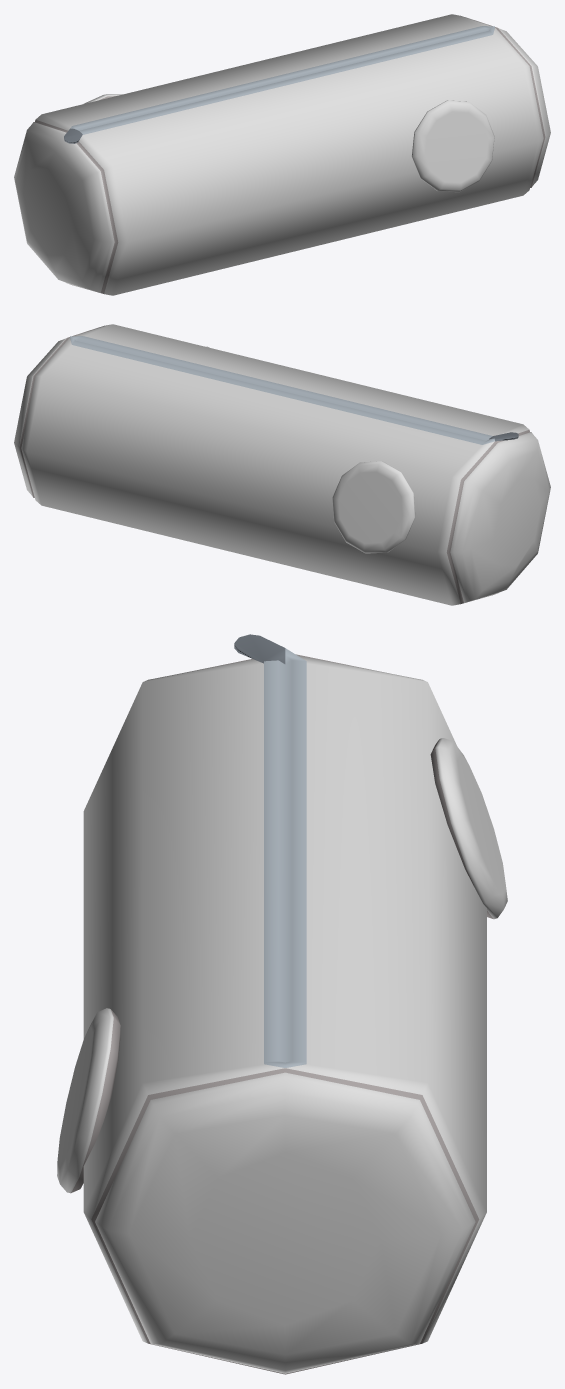
Rendered from RundeFedertaschePins.fbx.
3 renders of one model, top to bottom at view 1: azimuth 30°, elevation 25°; view 2: azimuth 150°, elevation 25°; view 3: azimuth 270°, elevation 25°, orthographic. The views are drawn at different scales.
Visible parts, largest first — view 1: Runde Federtasche Pins; view 2: Runde Federtasche Pins; view 3: Runde Federtasche Pins.
Boxes of the visible parts, left/top/right/bottom form: Runde Federtasche Pins: left=14, top=14, right=550, bottom=295; Runde Federtasche Pins: left=14, top=324, right=550, bottom=605; Runde Federtasche Pins: left=57, top=634, right=507, bottom=1374.
Size of the model in its own units: 21.99 by 7.16 by 9.17.
